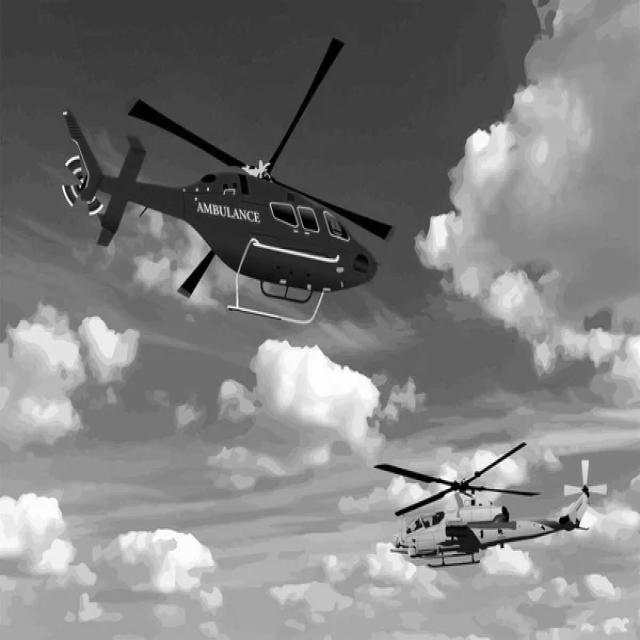Helicopter: (62, 33, 396, 325), (378, 442, 608, 569)
